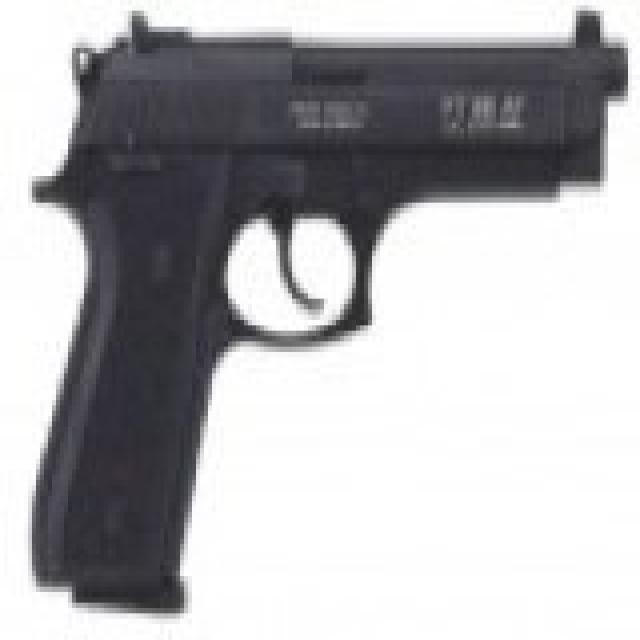Gun: (30, 8, 626, 591)
